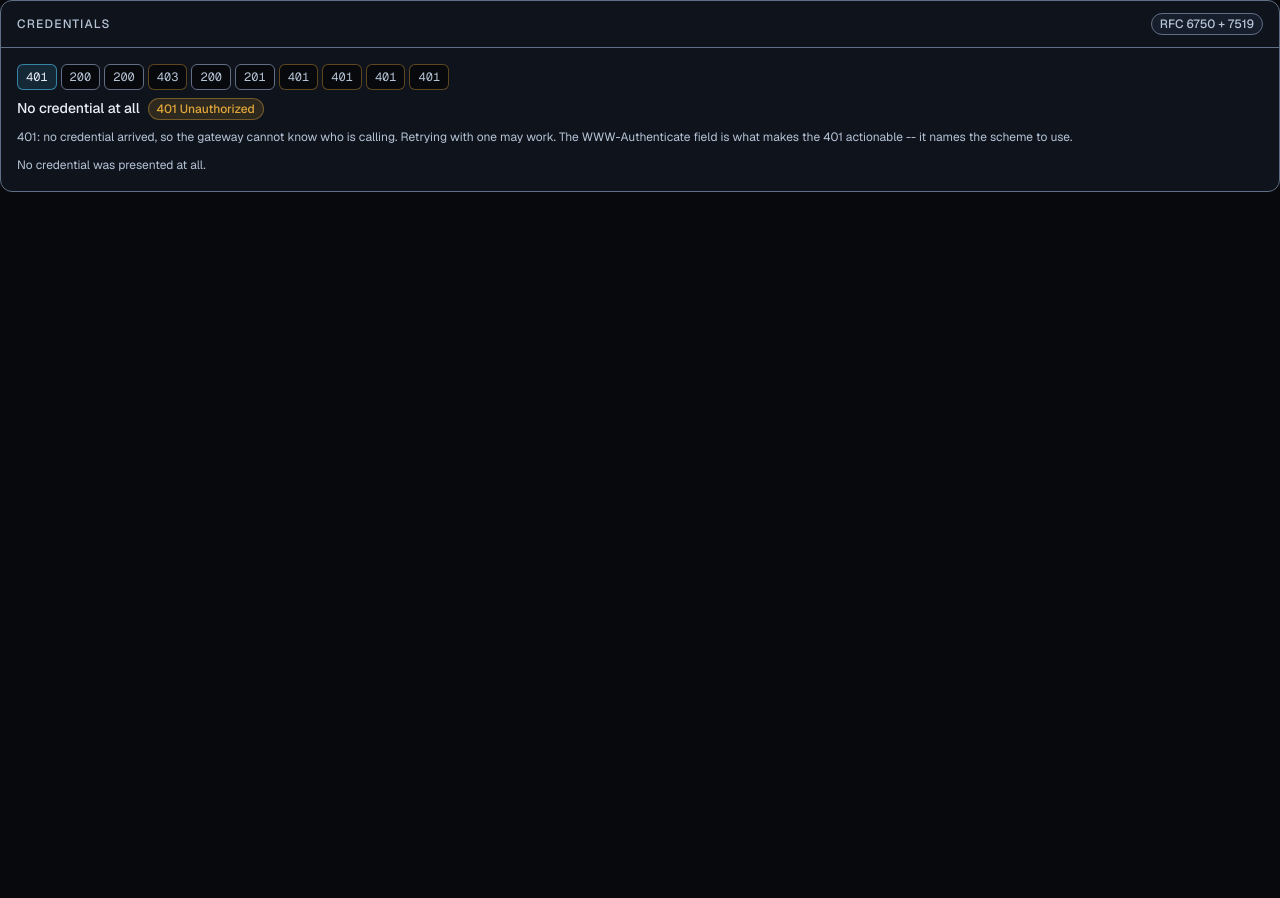
Test: the credential view › warns about alg: none when a token claims it
This screenshot has width=1280, height=898.
What coordinates should you click on to do the following:
click the button named "Bearer token signed with nothing"
I would click on:
 (429, 77)
Its box is [410,64,449,90].
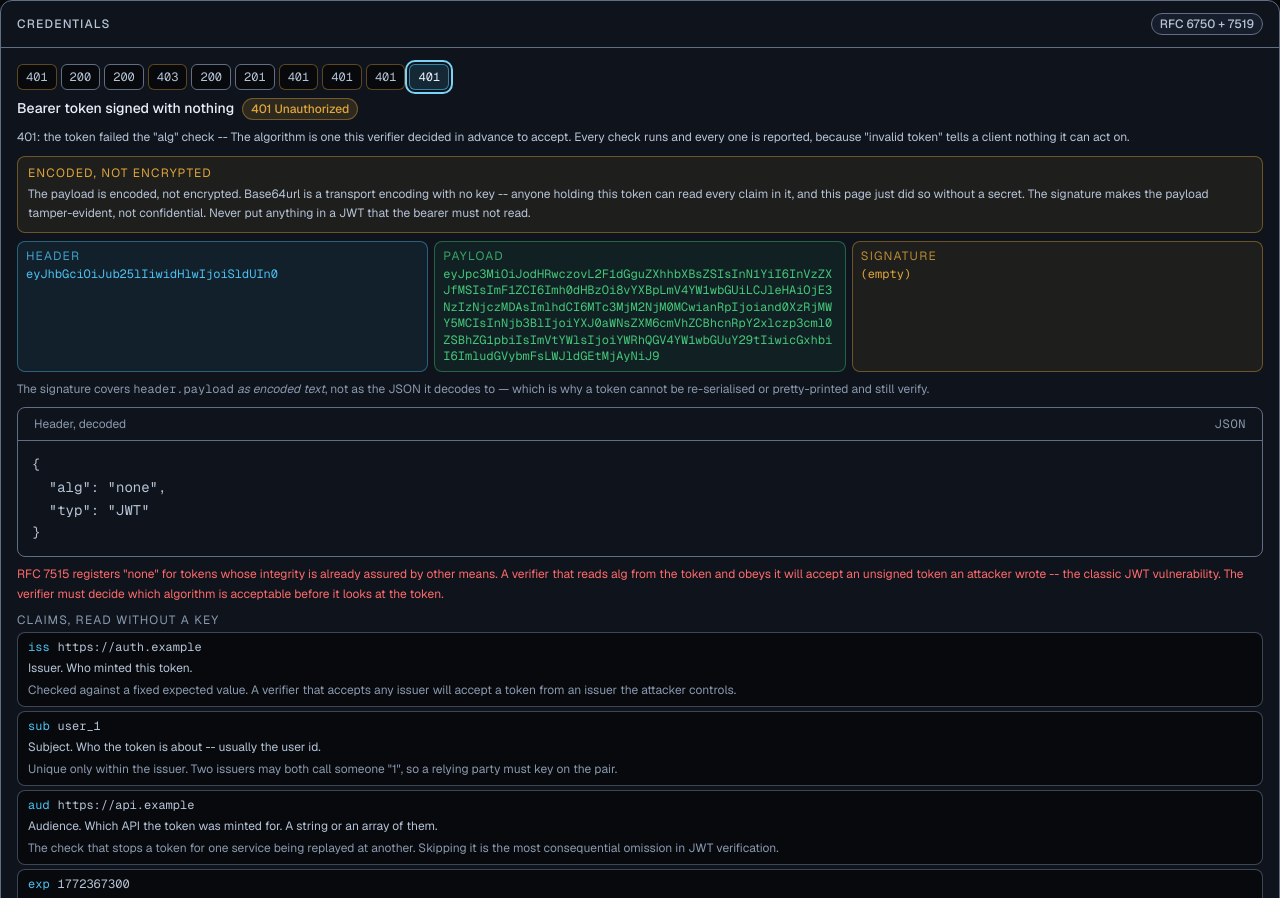
Expected: the text "RFC 7515 registers \"none\"" is shown, [17,566,1244,602]
